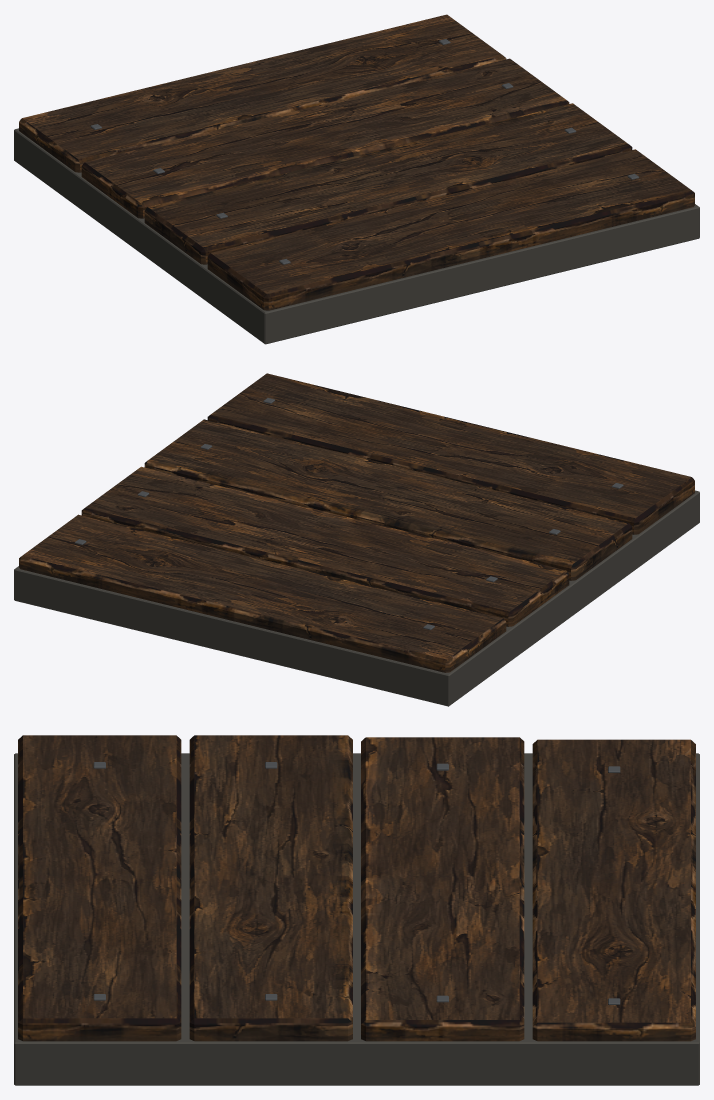
Rendered from floor_wood_b.glb.
3 views of the same model, one above another, from view 1: azimuth 30°, elevation 25°; view 2: azimuth 150°, elevation 25°; view 3: azimuth 270°, elevation 25° (orthographic). The views are drawn at different scales.
Parts seen in each view (by area): view 1: floor_wood_b; view 2: floor_wood_b; view 3: floor_wood_b.
Part boxes in pixels (bbox=[...]): floor_wood_b: bbox=[14, 14, 699, 344]; floor_wood_b: bbox=[14, 373, 699, 706]; floor_wood_b: bbox=[14, 735, 699, 1085].
Size of the model in its own units: 1 by 0.1066 by 1.
3 materials, 1 textured.
